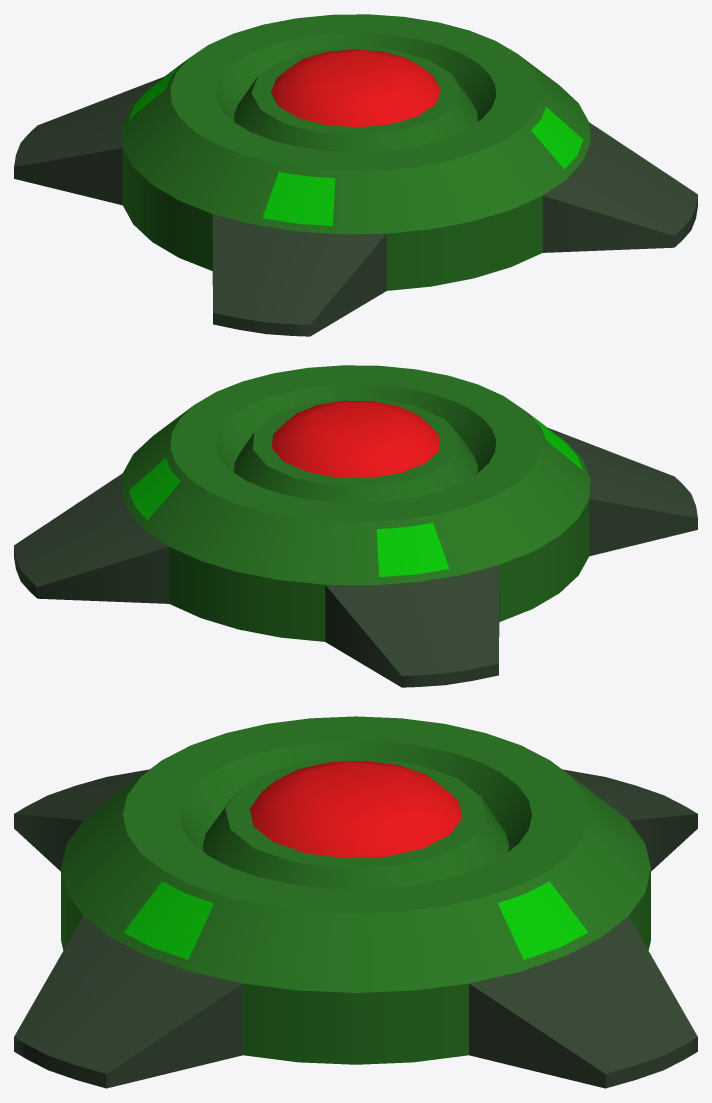
File: mine1-food.fbx
The picture shows the model from 3 angles, top to bottom: view 1: azimuth 30°, elevation 25°; view 2: azimuth 150°, elevation 25°; view 3: azimuth 270°, elevation 25°; orthographic projection. The views are drawn at different scales.
Parts seen in each view (by area): view 1: mine1-food; view 2: mine1-food; view 3: mine1-food.
Boxes of the visible parts, left/top/right/bottom form: mine1-food: left=14, top=14, right=697, bottom=336; mine1-food: left=14, top=365, right=697, bottom=687; mine1-food: left=14, top=716, right=697, bottom=1088.
Size of the model in its own units: 0.2859 by 0.069 by 0.2783.
